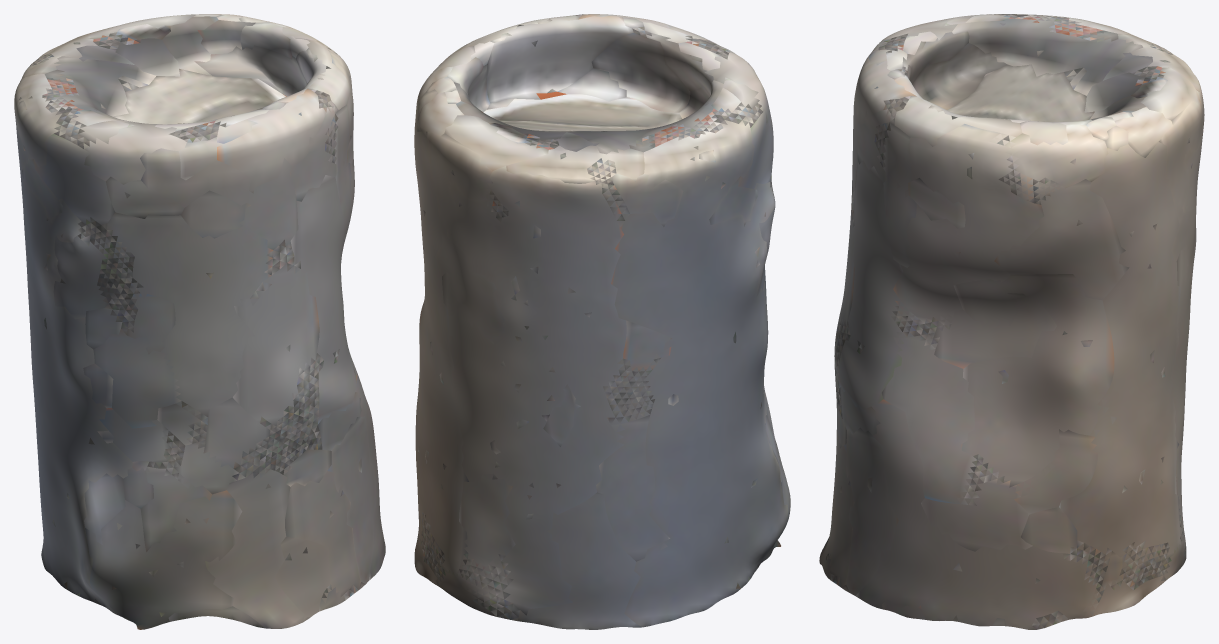
File: Gauze.fbx
3 renders of one model, left to right at view 1: azimuth 30°, elevation 25°; view 2: azimuth 150°, elevation 25°; view 3: azimuth 270°, elevation 25°, orthographic.
Visible parts, largest first — view 1: Object_2; view 2: Object_2; view 3: Object_2.
Boxes of the visible parts, <box> form: Object_2: <box>14,14,385,629</box>; Object_2: <box>414,14,790,629</box>; Object_2: <box>819,14,1204,629</box>.
Size of the model in its own units: 20.03 by 29.91 by 21.01.
1 material, 1 textured.
